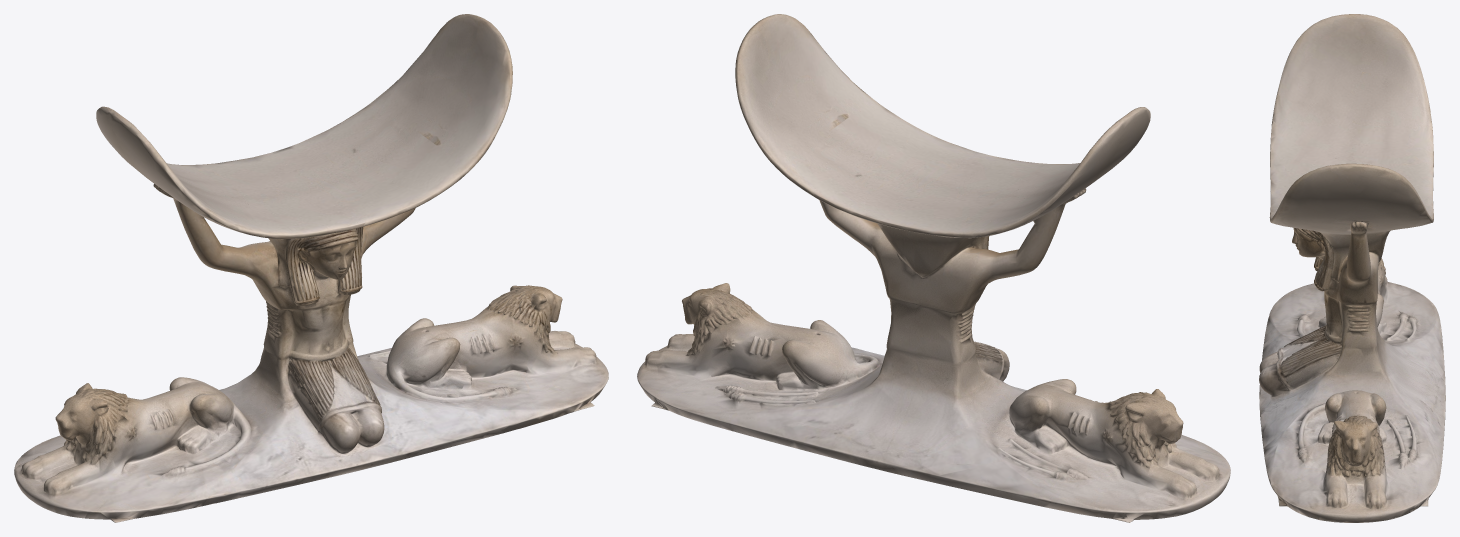
File: 403c-ivory-headrest-shu-and-lions.glb
3 views of the same model, side by side, from view 1: azimuth 30°, elevation 25°; view 2: azimuth 150°, elevation 25°; view 3: azimuth 270°, elevation 25° (orthographic). The views are drawn at different scales.
Size of the model in its own units: 1.9 by 1.19 by 0.637.
Materials: 1 (1 with a texture image).
